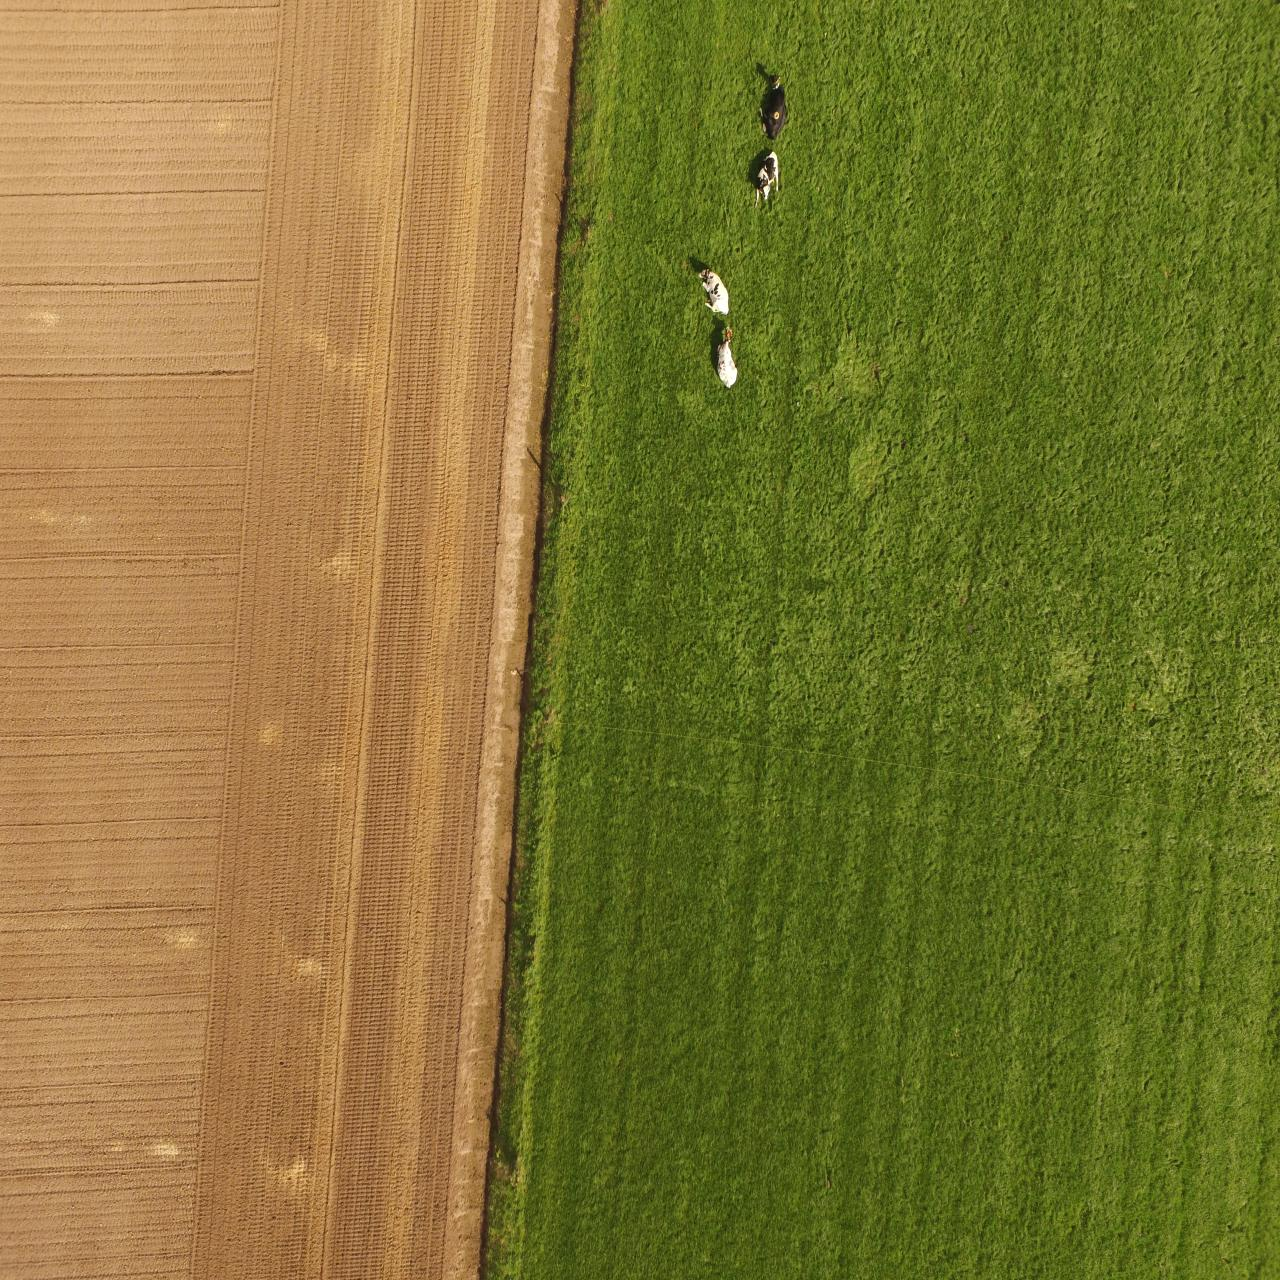cow: (757, 74, 788, 142), (754, 149, 779, 209), (699, 267, 729, 315), (716, 325, 738, 388)
